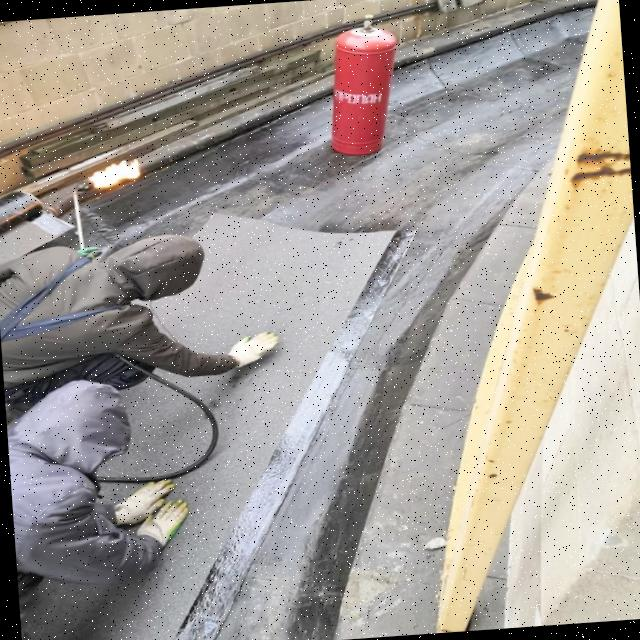NoHelmet: (7, 378, 137, 473), (103, 232, 210, 307)
